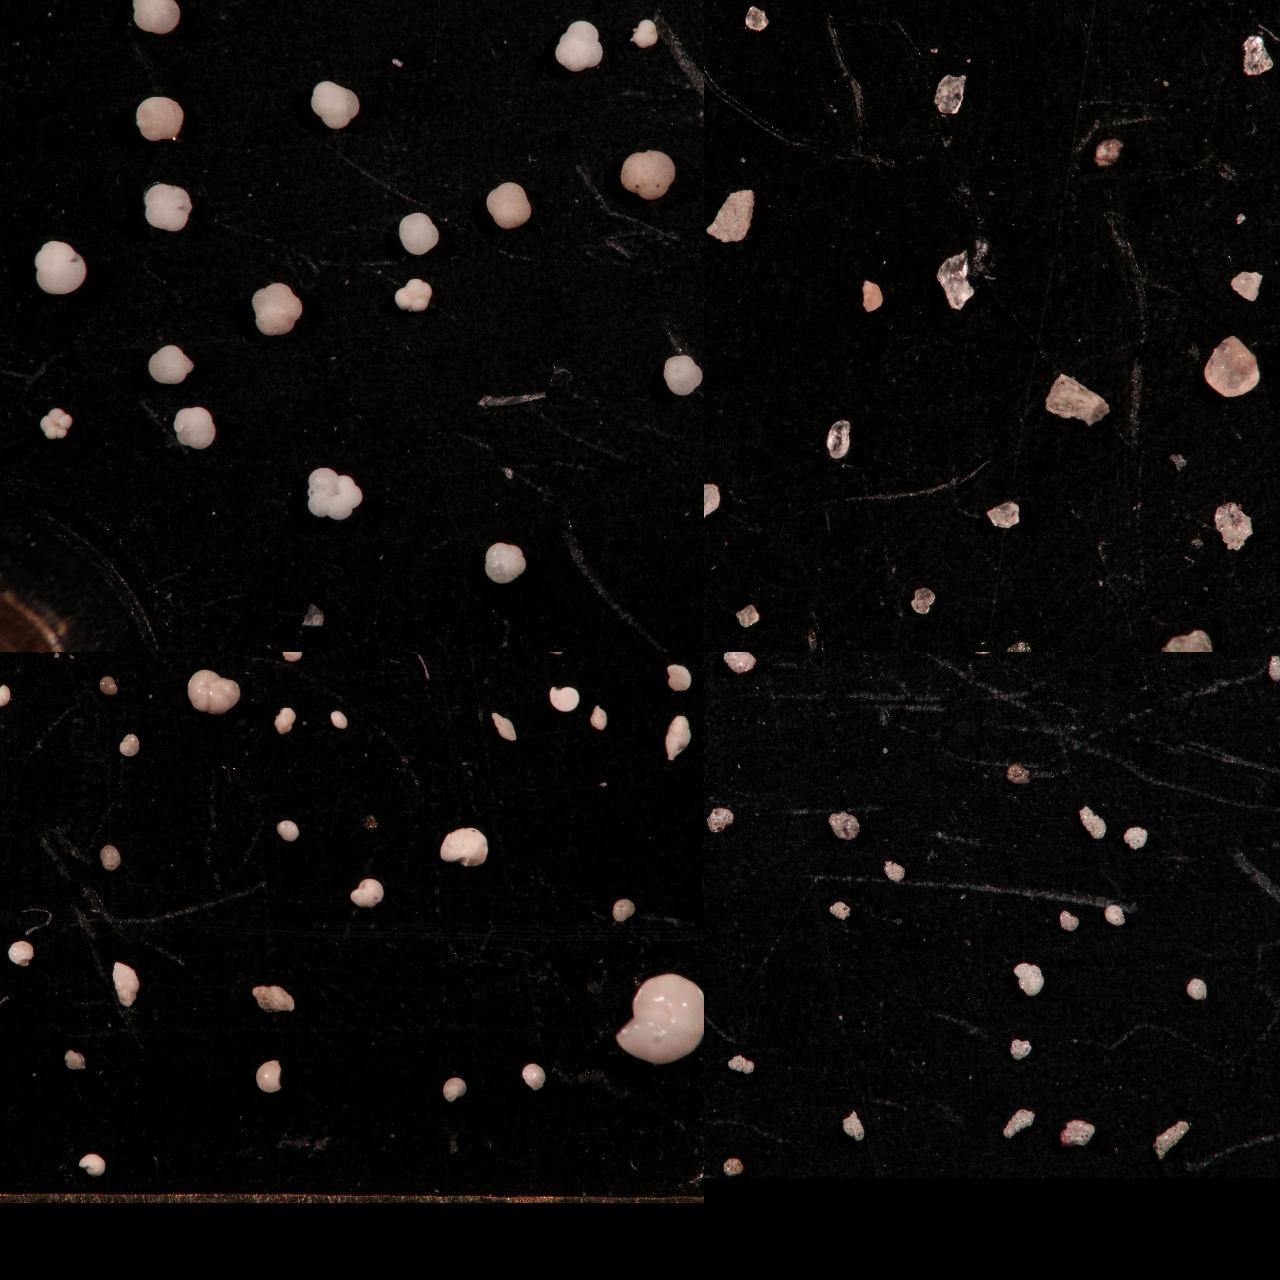Sediment: (1203, 333, 1261, 397), (1044, 370, 1112, 425), (704, 185, 757, 243), (934, 244, 976, 311), (704, 367, 742, 434), (704, 139, 742, 193), (1213, 501, 1254, 550), (704, 431, 737, 488), (704, 292, 744, 335), (934, 70, 971, 114), (704, 36, 729, 97), (1240, 34, 1275, 76), (824, 417, 853, 459), (1160, 629, 1214, 652), (1230, 268, 1266, 301), (985, 497, 1021, 529), (704, 610, 729, 652), (704, 243, 729, 282), (1094, 135, 1124, 166), (858, 279, 885, 311), (908, 585, 938, 613), (704, 481, 726, 519), (704, 536, 724, 576), (743, 4, 771, 30), (704, 471, 727, 504), (300, 601, 327, 628), (734, 601, 762, 626), (704, 139, 719, 188), (704, 0, 733, 23), (933, 0, 971, 16), (998, 638, 1034, 652), (704, 576, 723, 602), (704, 261, 719, 295), (704, 0, 727, 19), (1250, 0, 1280, 12), (704, 175, 719, 197)
agglutinated: (1152, 1121, 1190, 1158), (1012, 961, 1044, 995), (1001, 1108, 1036, 1137), (1060, 1119, 1096, 1145), (1080, 804, 1107, 838), (829, 811, 862, 838), (706, 805, 736, 831), (842, 1109, 866, 1139), (704, 661, 723, 700), (722, 652, 758, 670), (1123, 825, 1150, 847), (881, 859, 906, 881), (704, 853, 726, 879), (704, 829, 719, 864), (704, 885, 719, 920), (1006, 763, 1030, 783), (729, 1054, 755, 1073), (704, 772, 722, 799), (918, 652, 948, 667), (704, 652, 722, 678), (704, 980, 720, 1009), (1187, 976, 1208, 998), (1104, 903, 1125, 924), (1010, 1036, 1032, 1057), (828, 900, 852, 918), (704, 865, 722, 890), (1216, 652, 1246, 666), (722, 1156, 744, 1175), (704, 673, 719, 702), (704, 723, 719, 753), (1058, 910, 1080, 928), (704, 1095, 717, 1125), (1266, 652, 1280, 679), (955, 652, 986, 663), (704, 1037, 717, 1064), (704, 1030, 717, 1057), (966, 652, 990, 666), (704, 790, 716, 819), (704, 652, 722, 670), (774, 652, 799, 663), (704, 801, 716, 825), (704, 652, 721, 668), (704, 652, 720, 667), (704, 652, 719, 667), (704, 926, 714, 948), (704, 1162, 719, 1176), (704, 652, 717, 665), (704, 652, 719, 662), (704, 652, 716, 663)
calcareous: (612, 968, 704, 1065), (186, 667, 241, 715), (438, 826, 491, 866), (663, 715, 694, 762), (250, 983, 297, 1013), (110, 959, 139, 1006), (350, 876, 384, 908), (0, 652, 29, 688), (0, 896, 20, 945), (489, 710, 519, 742), (256, 1057, 282, 1092), (550, 685, 583, 712), (7, 937, 34, 967), (272, 704, 298, 735), (666, 663, 694, 690), (519, 1062, 547, 1089), (0, 742, 20, 779), (0, 1010, 21, 1046), (442, 1075, 470, 1101), (98, 844, 124, 872), (79, 1151, 108, 1176), (549, 652, 587, 669), (610, 897, 636, 921), (61, 1048, 89, 1070), (0, 952, 18, 987), (586, 704, 610, 730), (658, 652, 689, 670), (116, 730, 141, 754), (352, 652, 386, 668), (274, 819, 300, 840), (95, 672, 118, 694), (94, 652, 130, 666), (0, 893, 16, 924), (435, 652, 467, 666), (0, 704, 16, 731), (0, 1060, 16, 1087), (0, 652, 20, 672), (394, 652, 420, 667), (328, 709, 350, 727), (144, 652, 173, 665), (0, 829, 13, 857), (474, 652, 501, 665), (212, 652, 240, 663), (204, 652, 232, 663), (542, 652, 568, 663), (522, 652, 549, 663), (302, 652, 329, 663), (84, 652, 113, 662), (0, 652, 15, 670), (279, 652, 302, 663), (0, 683, 13, 704), (0, 727, 12, 749), (0, 652, 14, 667), (384, 652, 407, 661), (0, 652, 18, 663), (692, 652, 704, 665), (0, 652, 12, 665), (0, 652, 13, 663)
planktic: (33, 236, 89, 297), (305, 464, 366, 519), (250, 279, 306, 338), (618, 148, 678, 200), (143, 181, 196, 233), (554, 16, 605, 72), (309, 77, 362, 129), (483, 179, 535, 229), (136, 94, 186, 139), (145, 342, 197, 386), (482, 539, 530, 585), (172, 403, 218, 450), (397, 209, 441, 256), (662, 352, 704, 395), (324, 0, 390, 27), (131, 0, 183, 34), (390, 275, 436, 313), (611, 0, 672, 27), (40, 406, 76, 440), (470, 0, 516, 23), (77, 0, 124, 21), (629, 18, 660, 48)
